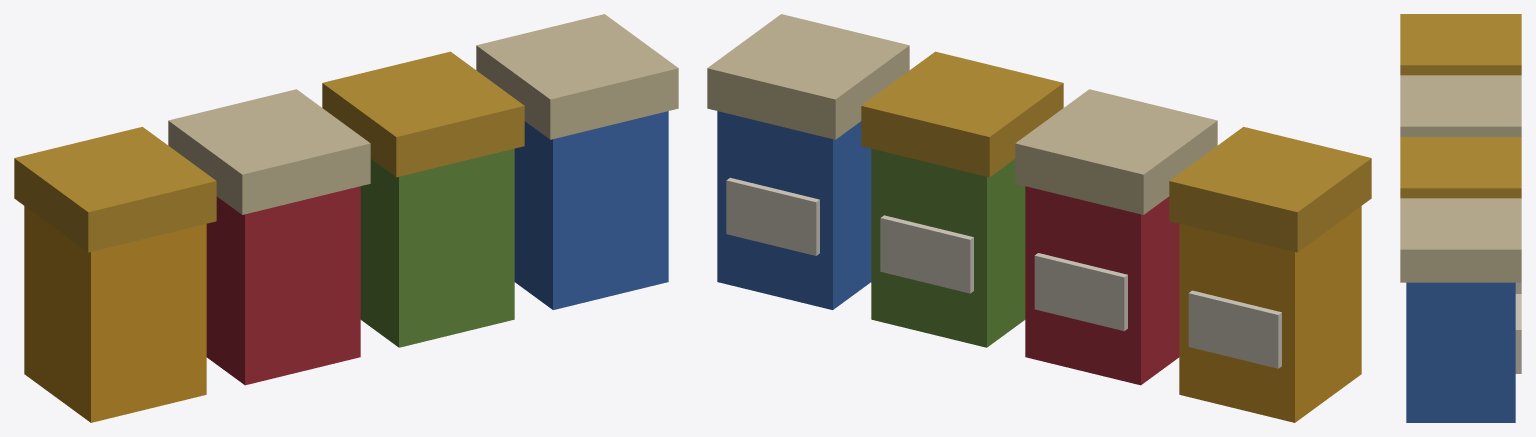
File: cp-shelf-jars.glb
The picture shows the model from 3 angles, left to right: view 1: azimuth 30°, elevation 25°; view 2: azimuth 150°, elevation 25°; view 3: azimuth 270°, elevation 25°; orthographic projection. The views are drawn at different scales.
Visible parts, largest first — view 1: box-prop; view 2: box-prop; view 3: box-prop.
Part boxes in pixels (left/top/right/bottom): box-prop: left=14, top=14, right=678, bottom=422; box-prop: left=707, top=14, right=1371, bottom=422; box-prop: left=1400, top=14, right=1521, bottom=422.
Bounding box in the file's own units: 0.92 × 0.32 × 0.2.
